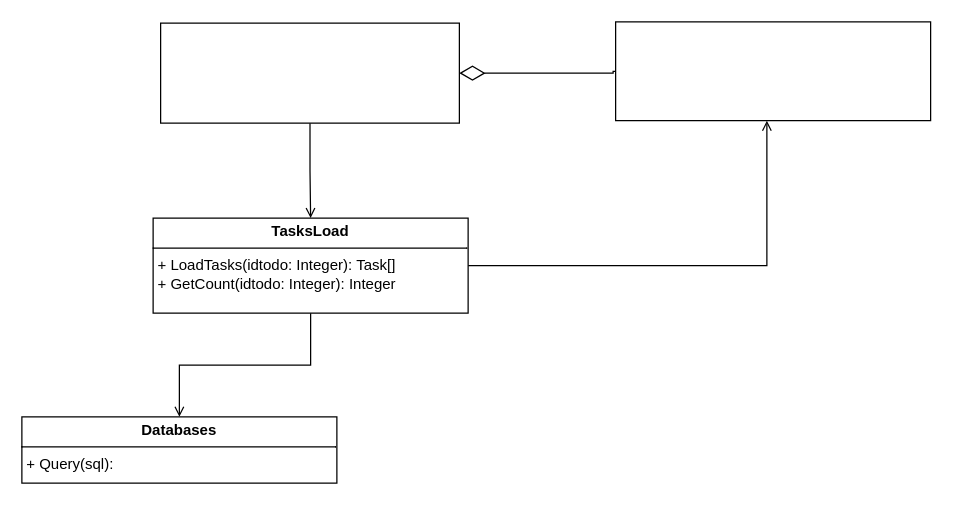
The diagram is 953 pixels wide and 505 high, and some of its shapes have lost their labels. The shapes that lost their labels are listed below. From the top down, each one's centre as x and y in pixels, then its label:
At point (309, 72): "ToDo - idtodo: Integer + GetTasks( ): Task[]".
At point (772, 71): "Task - id: Integer + label: String + description: String".
